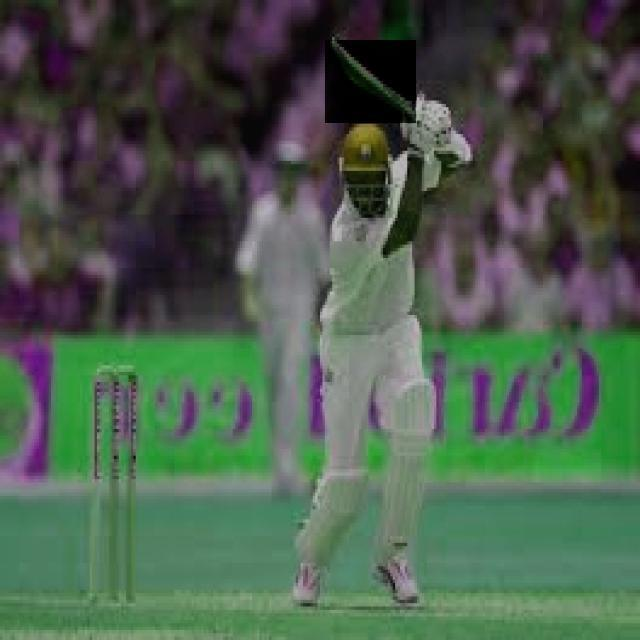bat: (325, 36, 416, 123)
